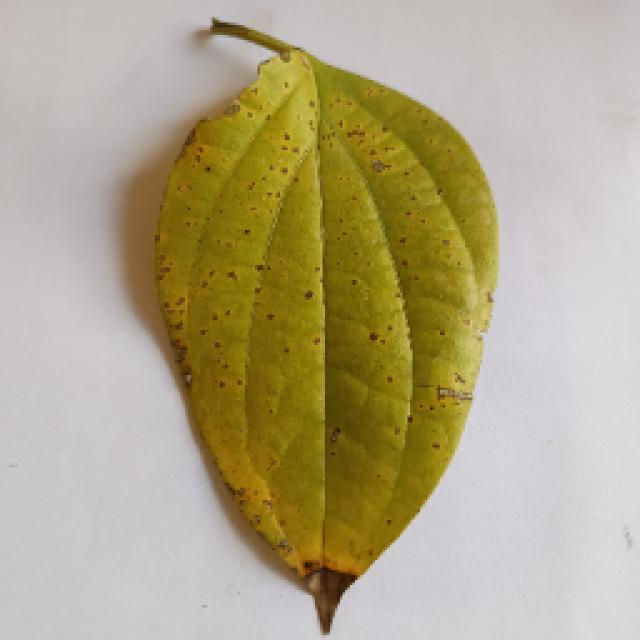slow-decline: (125, 30, 535, 632)
